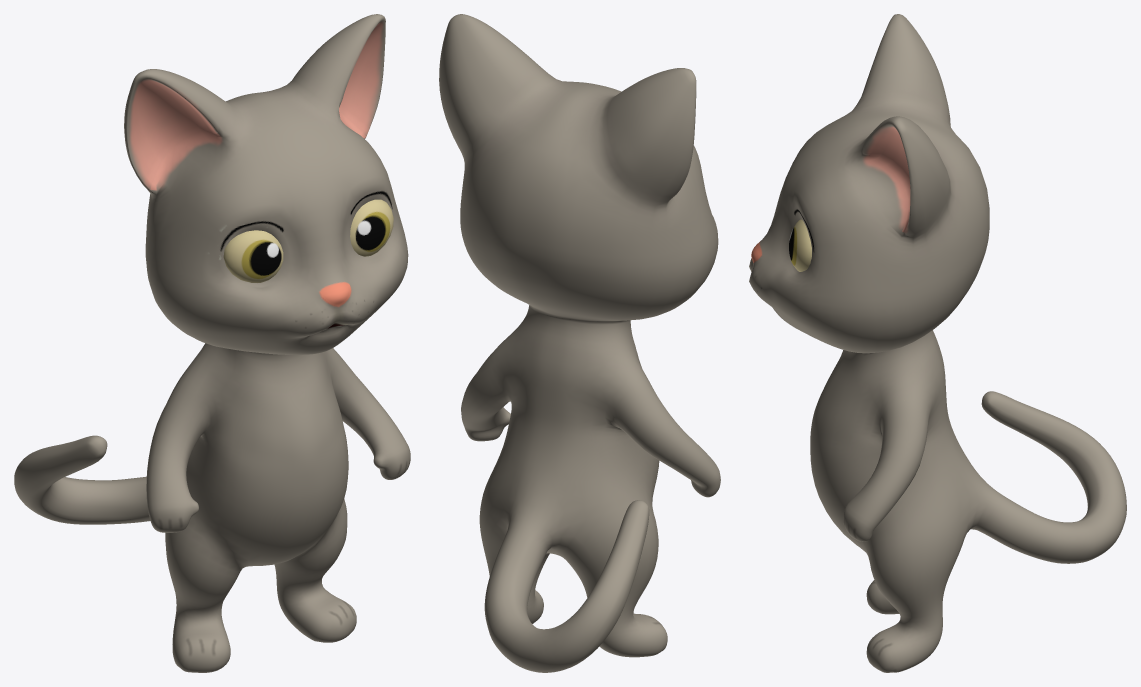
The model's file is Cat.glb.
3 renders of one model, left to right at view 1: azimuth 30°, elevation 25°; view 2: azimuth 150°, elevation 25°; view 3: azimuth 270°, elevation 25°, orthographic. The views are drawn at different scales.
Visible parts, largest first — view 1: cat; view 2: cat; view 3: cat.
Part boxes in pixels (x1,y1,x2,y2): cat: [14, 14, 410, 672]; cat: [439, 14, 720, 672]; cat: [749, 14, 1126, 672].
Bounding box in the file's own units: 0.1237 × 0.262 × 0.1576.
1 material, 1 textured.
